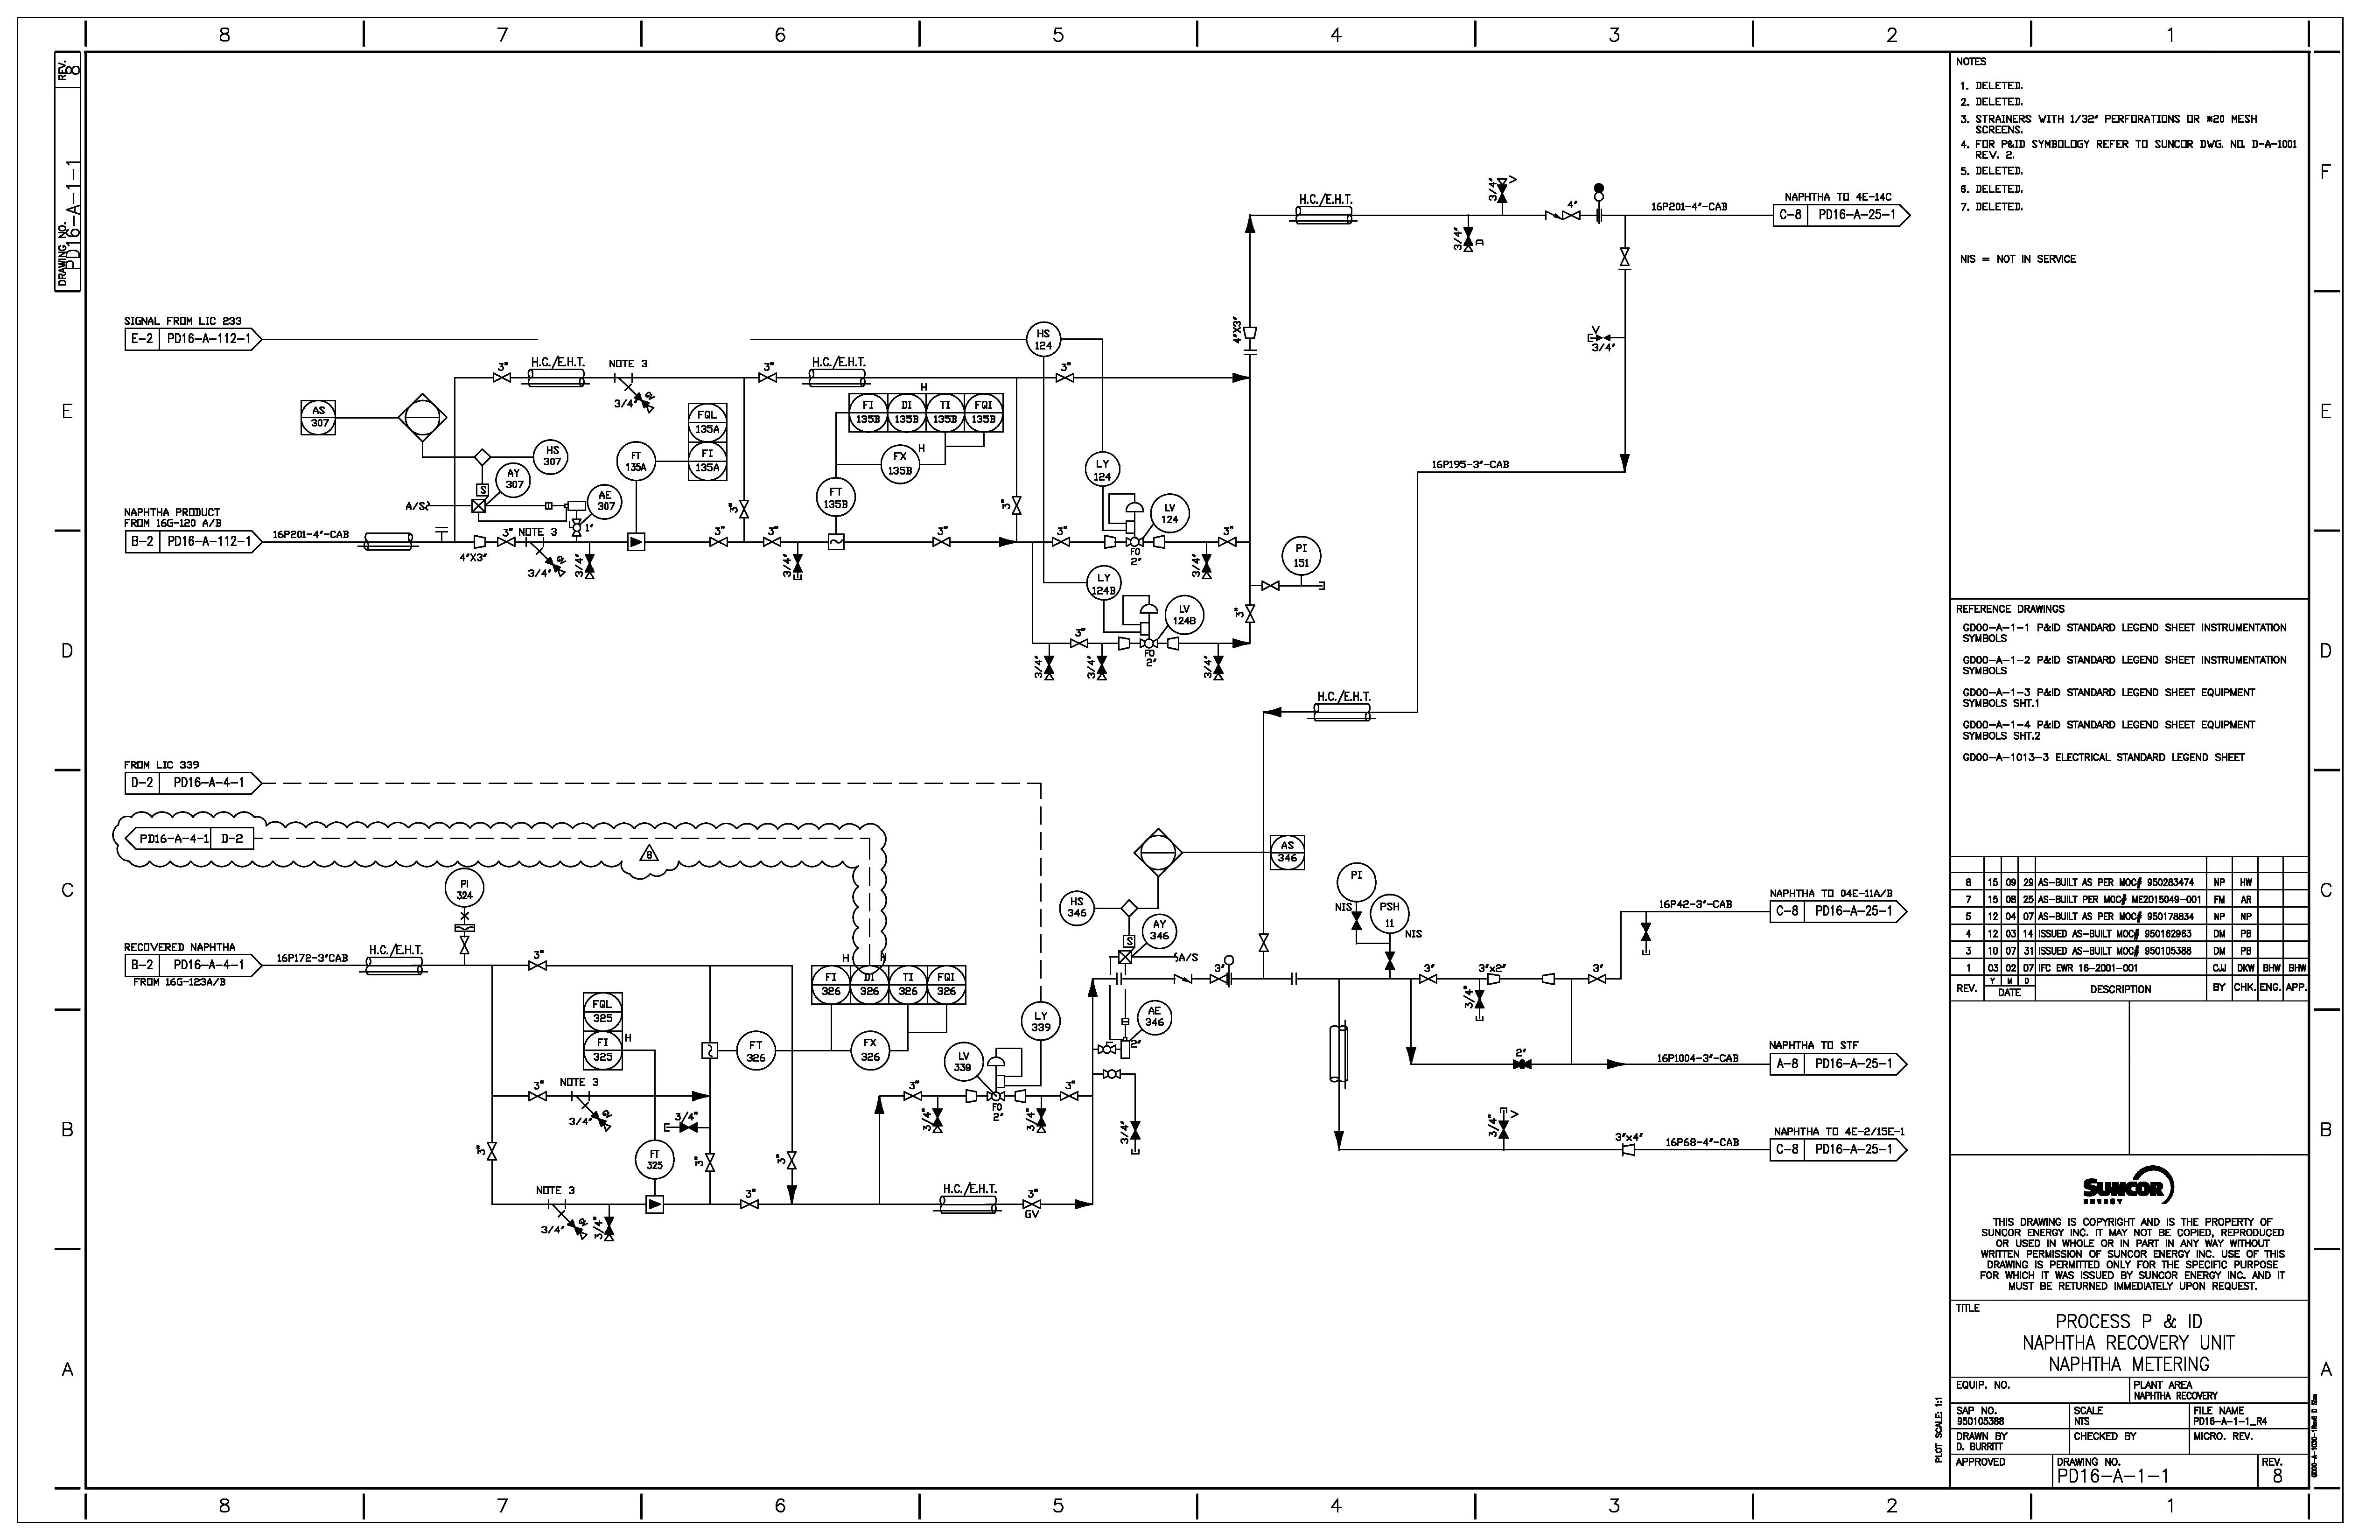Gate Valve: (759, 537, 789, 553), (753, 370, 784, 385), (523, 959, 553, 975), (897, 1090, 928, 1105), (1414, 973, 1444, 988), (493, 534, 523, 550), (926, 534, 957, 550), (1063, 638, 1093, 654), (520, 1090, 550, 1105), (1049, 371, 1079, 387), (488, 369, 518, 384), (704, 533, 734, 549), (1582, 972, 1612, 987)
